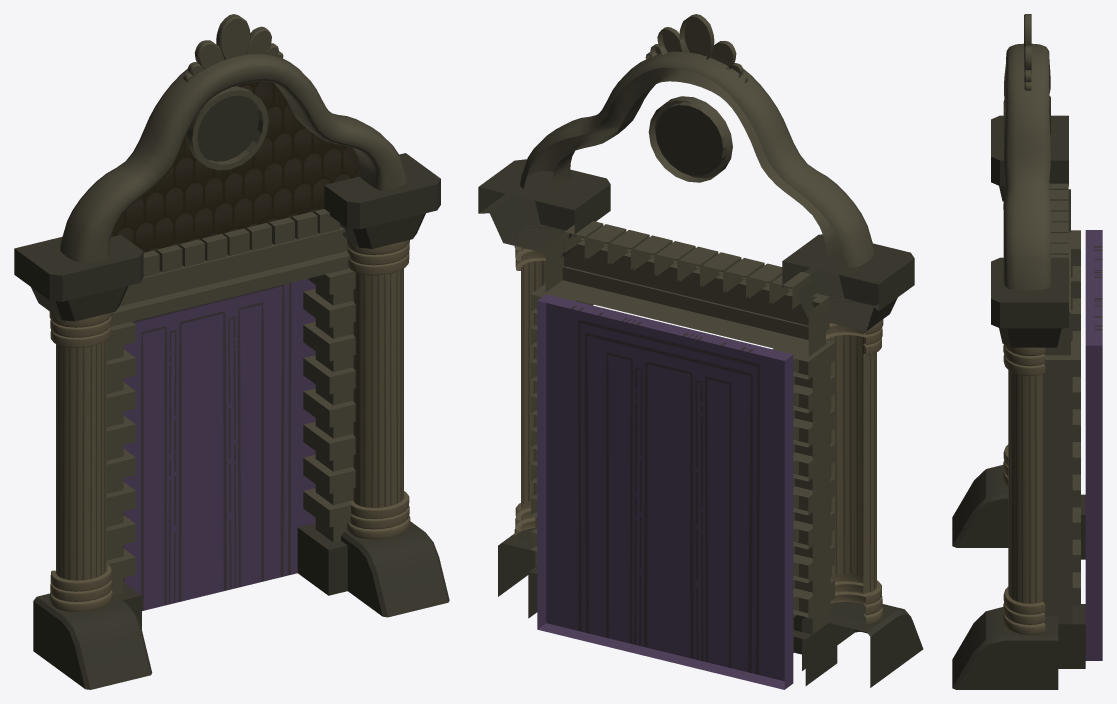
The model's file is Maze_Door.fbx.
3 views of the same model, side by side, from view 1: azimuth 30°, elevation 25°; view 2: azimuth 150°, elevation 25°; view 3: azimuth 270°, elevation 25° (orthographic). The views are drawn at different scales.
Parts seen in each view (by area): view 1: MazeDoor_Frame, MazeDoor; view 2: MazeDoor_Frame, MazeDoor; view 3: MazeDoor_Frame, MazeDoor.
Part boxes in pixels (x1,y1,x2,y2): MazeDoor_Frame: (14, 14, 449, 689); MazeDoor: (123, 279, 315, 610); MazeDoor_Frame: (478, 14, 923, 687); MazeDoor: (537, 294, 793, 689); MazeDoor_Frame: (952, 14, 1085, 689); MazeDoor: (1085, 230, 1102, 660).
Size of the model in its own units: 38.3 by 56.25 by 13.02.
Materials: 5 (3 with a texture image).
